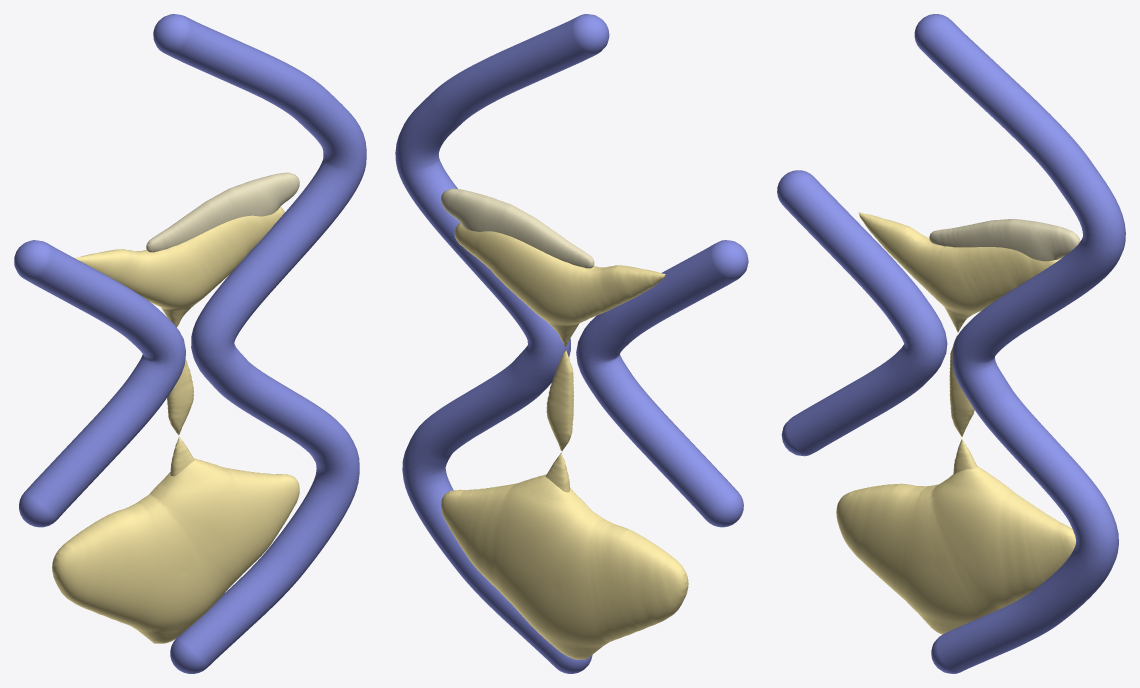
File: bluesand2.glb
3 renders of one model, left to right at view 1: azimuth 30°, elevation 25°; view 2: azimuth 150°, elevation 25°; view 3: azimuth 330°, elevation 25°, orthographic.
Visible parts, largest first — view 1: mesh_id37, mesh_id58, mesh_id40, mesh_id54, mesh_id41; view 2: mesh_id37, mesh_id58, mesh_id40, mesh_id54, mesh_id41; view 3: mesh_id37, mesh_id58, mesh_id40, mesh_id54, mesh_id41.
Part boxes in pixels (x1,y1,x2,y2): mesh_id37: (153, 14, 366, 673); mesh_id58: (52, 458, 299, 643); mesh_id40: (14, 240, 185, 527); mesh_id54: (75, 206, 284, 476); mesh_id41: (146, 172, 299, 252); mesh_id37: (395, 14, 609, 673); mesh_id58: (441, 474, 688, 659); mesh_id40: (576, 240, 748, 527); mesh_id54: (454, 222, 665, 492); mesh_id41: (441, 188, 594, 268); mesh_id37: (914, 14, 1125, 673); mesh_id58: (836, 466, 1075, 634); mesh_id40: (777, 170, 947, 456); mesh_id54: (858, 212, 1061, 474); mesh_id41: (929, 219, 1080, 261).
Bounding box in the file's own units: 0.5498 × 0.9986 × 0.1025.
Materials: 5 (3 with a texture image).
